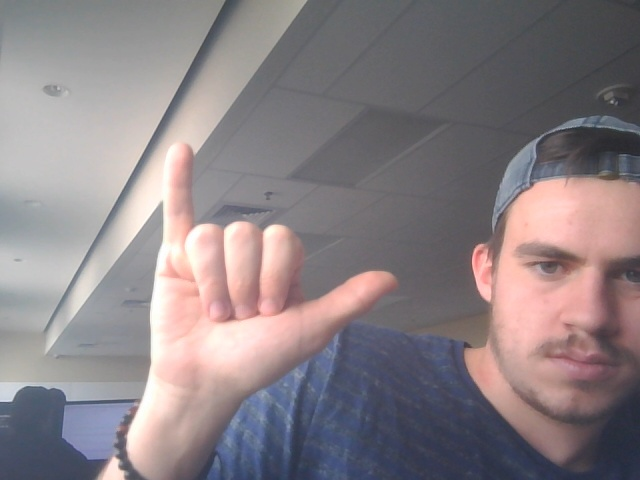birdsup: (139, 138, 405, 385)
